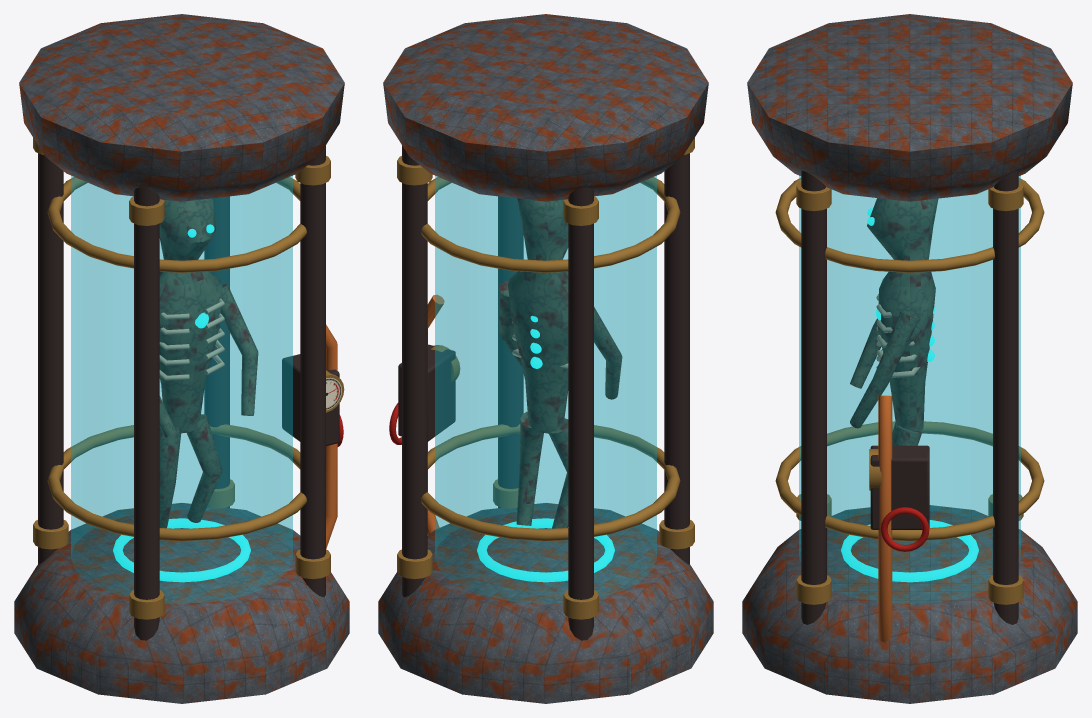
File: lab_pod.glb
3 views of the same model, side by side, from view 1: azimuth 30°, elevation 25°; view 2: azimuth 150°, elevation 25°; view 3: azimuth 270°, elevation 25° (orthographic).
Parts seen in each view (by area): view 1: LabPodCore, GlassTube; view 2: LabPodCore, GlassTube; view 3: LabPodCore, GlassTube.
Part boxes in pixels (x1,y1,x2,y2): LabPodCore: [14, 14, 349, 703]; GlassTube: [71, 176, 292, 603]; LabPodCore: [378, 14, 713, 703]; GlassTube: [435, 176, 656, 603]; LabPodCore: [742, 14, 1077, 703]; GlassTube: [799, 176, 1020, 603].
Bounding box in the file's own units: 1.37 × 2.52 × 1.36.
Materials: 9 (4 with a texture image).
